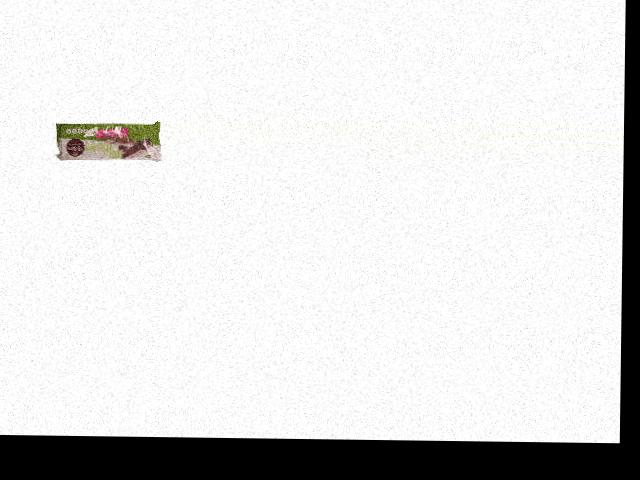chocolate: (51, 120, 161, 165)
